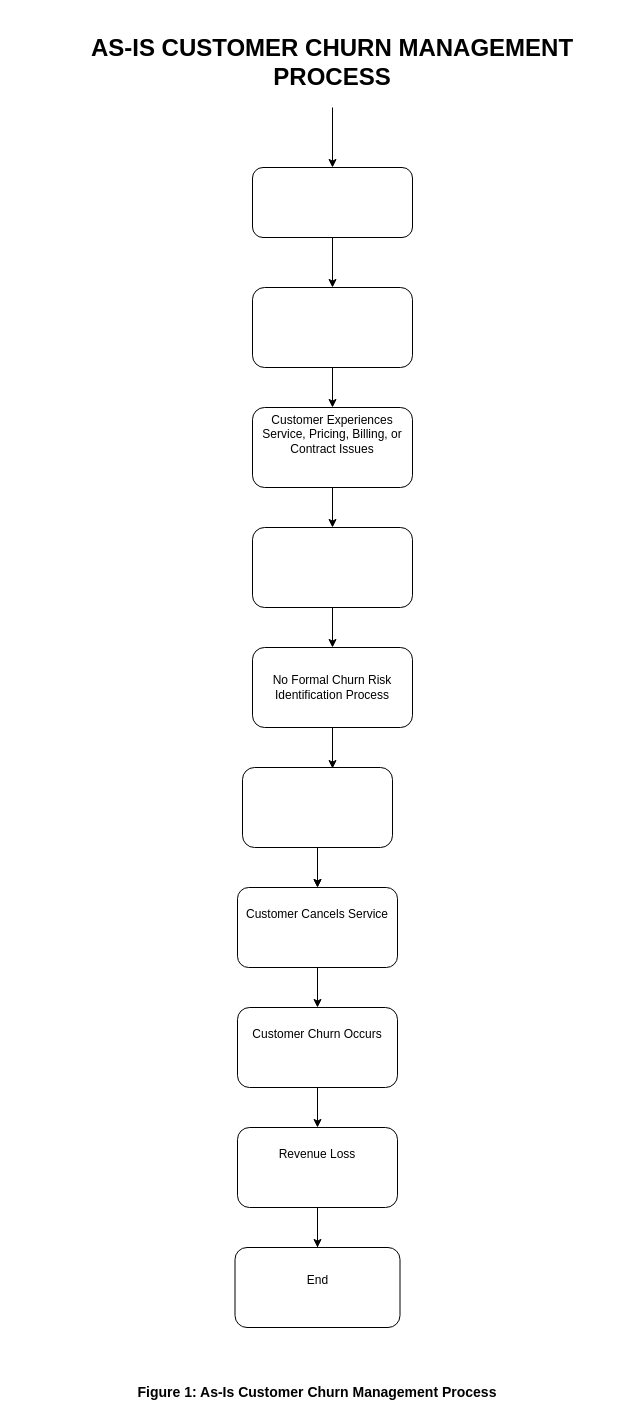
This 634x1424 diagram has some shape labels left out. The shapes that lost their labels are listed below. From the top down, each one's box as (x1, y1, x2, y2) in pixels, then its label:
(252, 166, 412, 238): Start
(252, 286, 412, 368): Customer Uses AlphaCom Services
(252, 526, 412, 608): Customer Satisfaction Declines
(242, 766, 392, 848): No Targeted Retention Action
